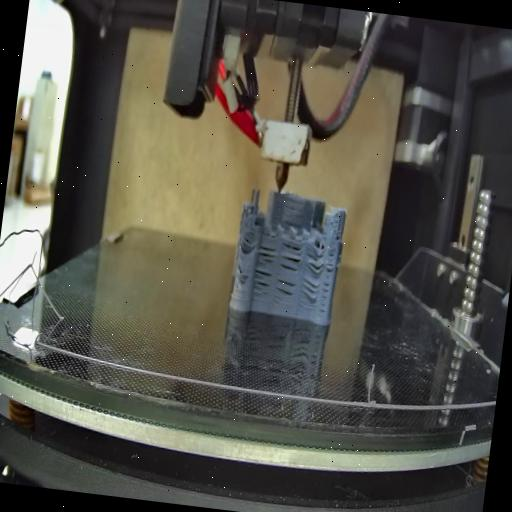cracks: (318, 253, 336, 315), (278, 240, 304, 272), (272, 276, 296, 306), (250, 268, 272, 298), (256, 242, 278, 266), (300, 279, 319, 305), (304, 253, 324, 274), (280, 216, 304, 230), (235, 264, 249, 284), (238, 238, 254, 253), (332, 231, 342, 242)
